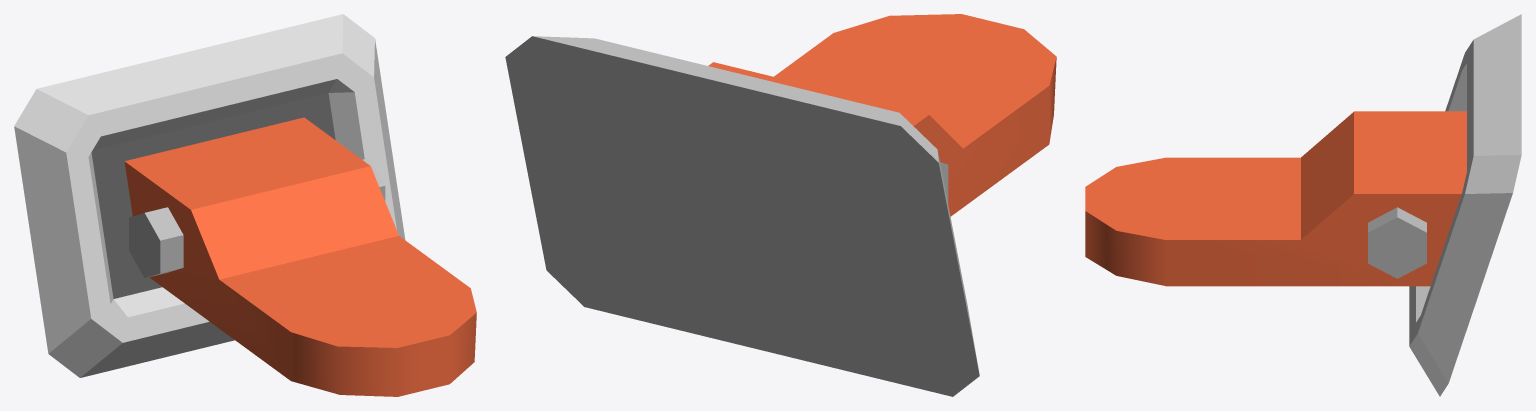
The model's file is space_station_decoration_014.fbx.
3 views of the same model, side by side, from view 1: azimuth 30°, elevation 25°; view 2: azimuth 150°, elevation 25°; view 3: azimuth 270°, elevation 25° (orthographic). The views are drawn at different scales.
Visible parts, largest first — view 1: space_station_decoration_014; view 2: space_station_decoration_014; view 3: space_station_decoration_014.
Boxes of the visible parts, bbox=[...] form: space_station_decoration_014: bbox=[14, 14, 476, 396]; space_station_decoration_014: bbox=[505, 14, 1056, 396]; space_station_decoration_014: bbox=[1085, 14, 1521, 396].
Size of the model in its own units: 275 by 306 by 188.
